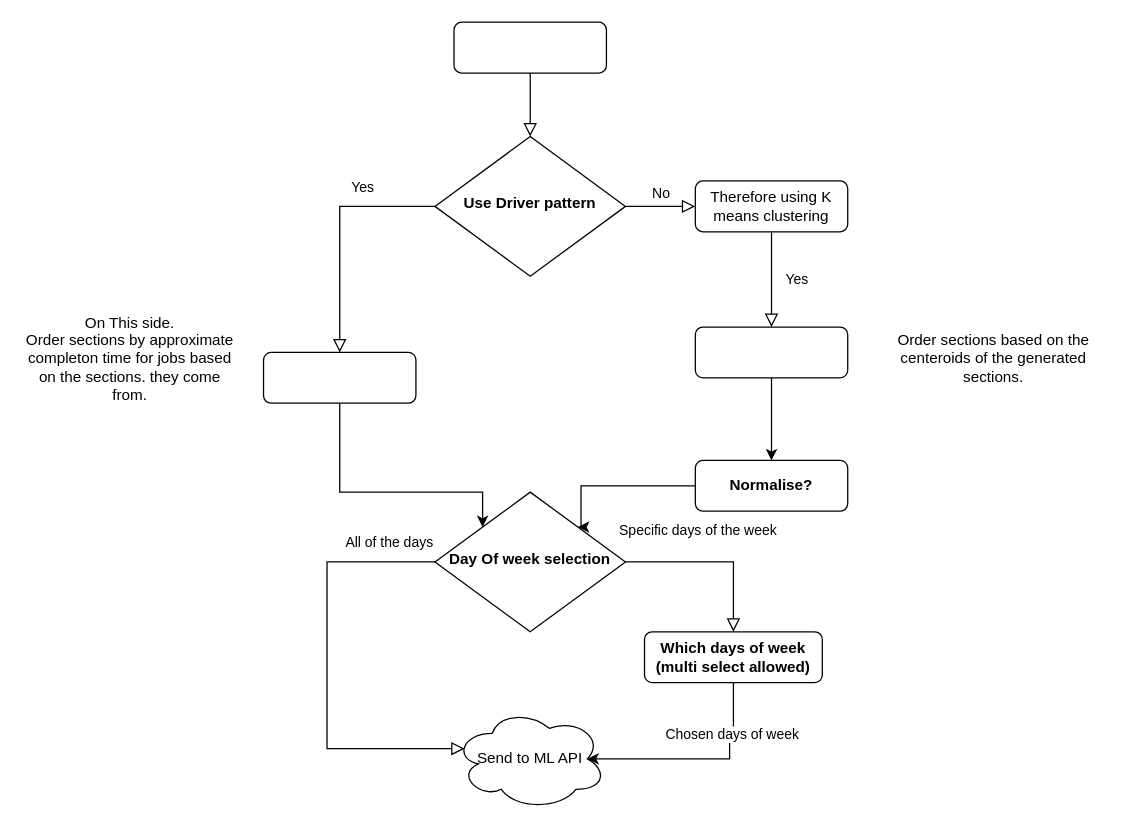
The diagram is 1123 pixels wide and 832 high, and some of its shapes have lost their labels. Here are the shapes that lost their labels. From the top down, the centre of each, then its label:
At [529,47]: "Generate Section template".
At [771,352]: "Specify section count".
At [339,377]: "Therefore using Db Scan".
